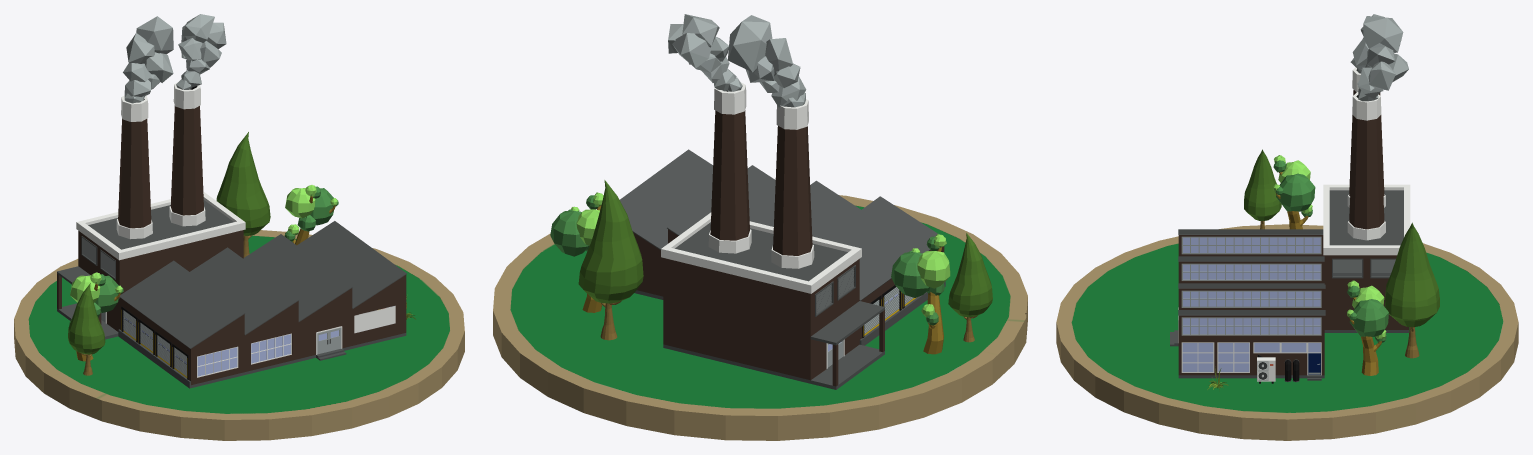
Rendered from factory.fbx.
3 views of the same model, side by side, from view 1: azimuth 30°, elevation 25°; view 2: azimuth 150°, elevation 25°; view 3: azimuth 270°, elevation 25° (orthographic). The views are drawn at different scales.
Visible parts, largest first — view 1: factory, island, treela1, treela2, lacay1.2, lacay1, lacay1.005, lacay1.004; view 2: factory, island, treela1, treela2, lacay1.005, lacay1.004, lacay1.2, thancay1.002, lacay1; view 3: island, factory, treela1, treela2, lacay1.2, lacay1.005, thancay1, lacay1.004, lacay1.
Part boxes in pixels (left/top/right/bottom): factory: left=57, top=14, right=406, bottom=388; island: left=14, top=230, right=464, bottom=440; treela1: left=216, top=132, right=270, bottom=235; treela2: left=68, top=283, right=105, bottom=354; lacay1.2: left=284, top=186, right=338, bottom=241; lacay1: left=285, top=185, right=337, bottom=235; lacay1.005: left=69, top=274, right=123, bottom=324; lacay1.004: left=70, top=272, right=122, bottom=302; factory: left=620, top=14, right=945, bottom=389; island: left=493, top=195, right=1027, bottom=440; treela1: left=578, top=180, right=643, bottom=303; treela2: left=948, top=233, right=992, bottom=317; lacay1.005: left=891, top=236, right=944, bottom=325; lacay1.004: left=912, top=233, right=950, bottom=317; lacay1.2: left=550, top=195, right=598, bottom=256; thancay1.002: left=923, top=247, right=943, bottom=354; lacay1: left=571, top=192, right=603, bottom=245; island: left=1056, top=224, right=1518, bottom=440; factory: left=1170, top=14, right=1410, bottom=383; treela1: left=1385, top=222, right=1439, bottom=327; treela2: left=1244, top=149, right=1281, bottom=220; lacay1.2: left=1347, top=285, right=1388, bottom=342; lacay1.005: left=1273, top=160, right=1315, bottom=217; thancay1: left=1349, top=297, right=1381, bottom=375; lacay1.004: left=1273, top=155, right=1312, bottom=213; lacay1: left=1347, top=280, right=1386, bottom=339.
Size of the model in its own units: 200 by 148 by 200.
8 materials, 2 textured.
